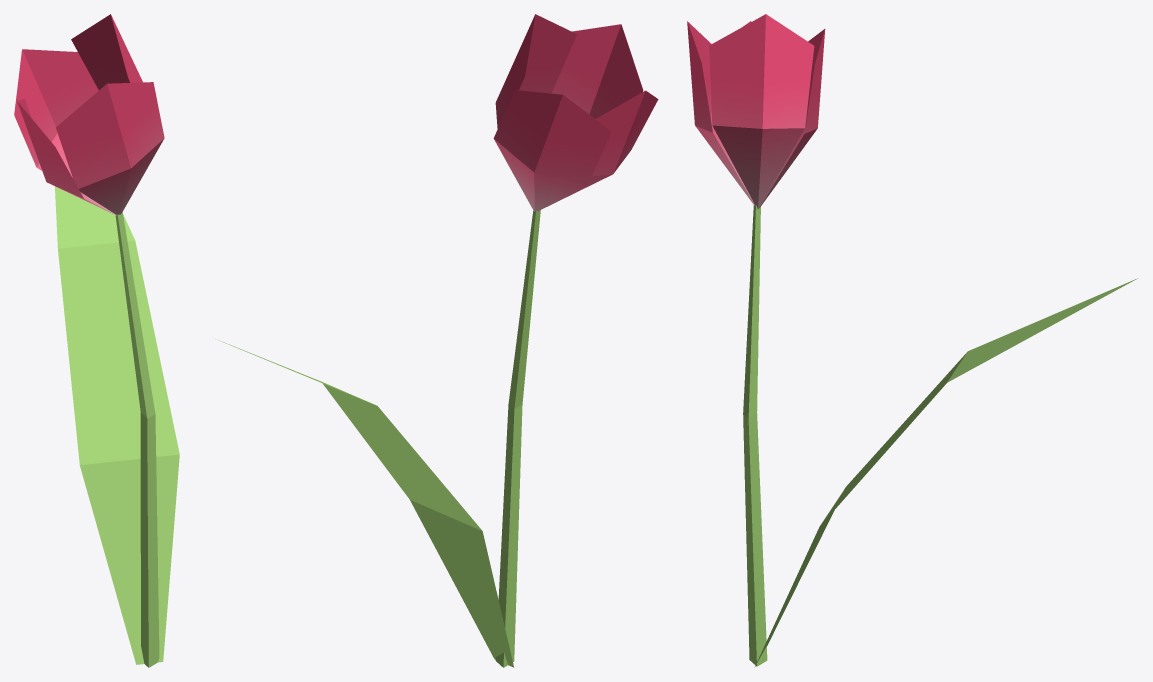
File: Flower_f_TwoS_07.fbx
The picture shows the model from 3 angles, left to right: view 1: azimuth 30°, elevation 25°; view 2: azimuth 150°, elevation 25°; view 3: azimuth 270°, elevation 25°; orthographic projection. The views are drawn at different scales.
Parts seen in each view (by area): view 1: Flower_f_TwoS_07; view 2: Flower_f_TwoS_07; view 3: Flower_f_TwoS_07.
Boxes of the visible parts, <box> form: Flower_f_TwoS_07: <box>14,14,179,667</box>; Flower_f_TwoS_07: <box>218,14,658,667</box>; Flower_f_TwoS_07: <box>687,14,1137,667</box>.
Size of the model in its own units: 21.54 by 58.05 by 37.6.
